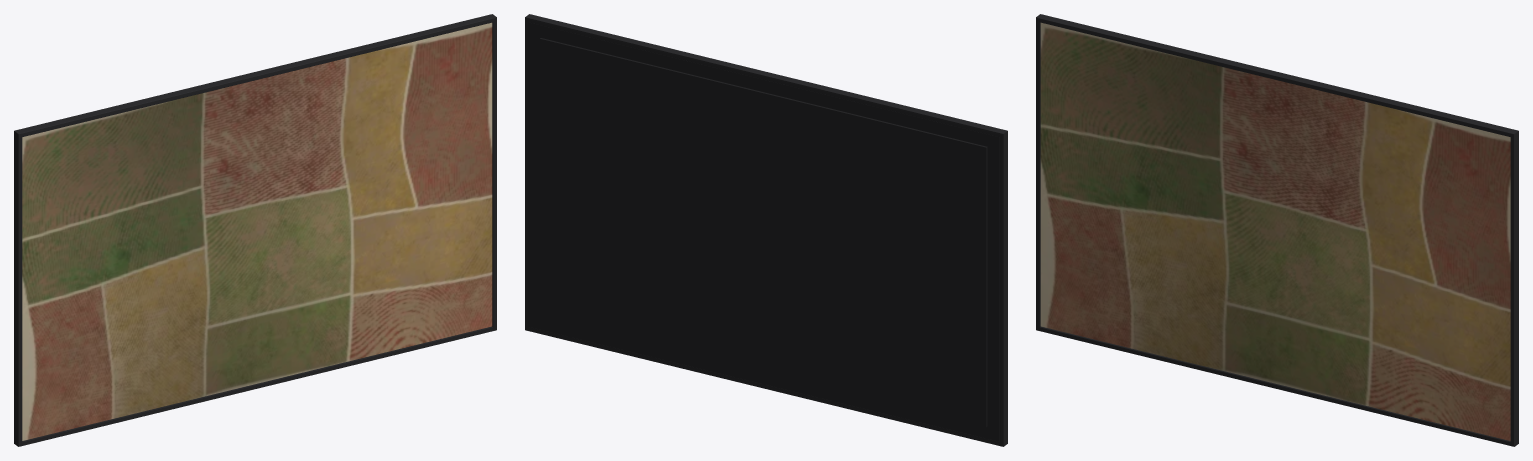
Rendered from art_vineyard.gltf.
3 views of the same model, side by side, from view 1: azimuth 30°, elevation 25°; view 2: azimuth 150°, elevation 25°; view 3: azimuth 330°, elevation 25° (orthographic).
Visible parts, largest first — view 1: Art_Vineyard_Art, Art_Vineyard_Frame; view 2: Art_Vineyard_Spacer, Art_Vineyard_Backing, Art_Vineyard_Frame; view 3: Art_Vineyard_Art, Art_Vineyard_Frame.
Part boxes in pixels (<box>): Art_Vineyard_Art: <box>22,22,492,440</box>; Art_Vineyard_Frame: <box>14,14,496,446</box>; Art_Vineyard_Spacer: <box>539,38,987,427</box>; Art_Vineyard_Backing: <box>529,22,999,441</box>; Art_Vineyard_Frame: <box>525,14,1007,446</box>; Art_Vineyard_Art: <box>1040,22,1510,440</box>; Art_Vineyard_Frame: <box>1036,14,1518,446</box>.
Size of the model in its own units: 2.4 by 1.5 by 0.05.
3 materials, 1 textured.
